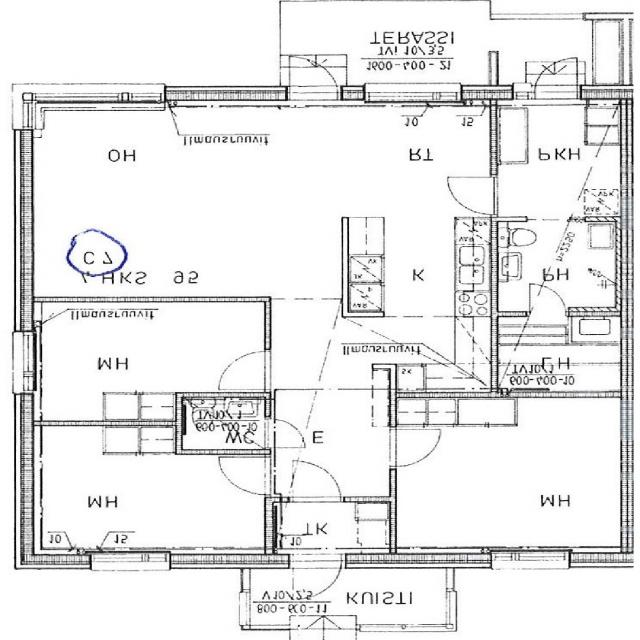door: (293, 553, 342, 606), (290, 47, 338, 99), (293, 458, 341, 502), (218, 457, 271, 495), (444, 178, 498, 215), (218, 352, 272, 389), (536, 52, 577, 99), (390, 430, 442, 466), (530, 282, 566, 316), (265, 419, 307, 447)
